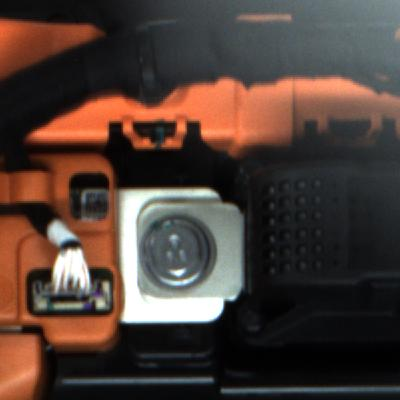nut_b: (129, 215, 216, 291)
